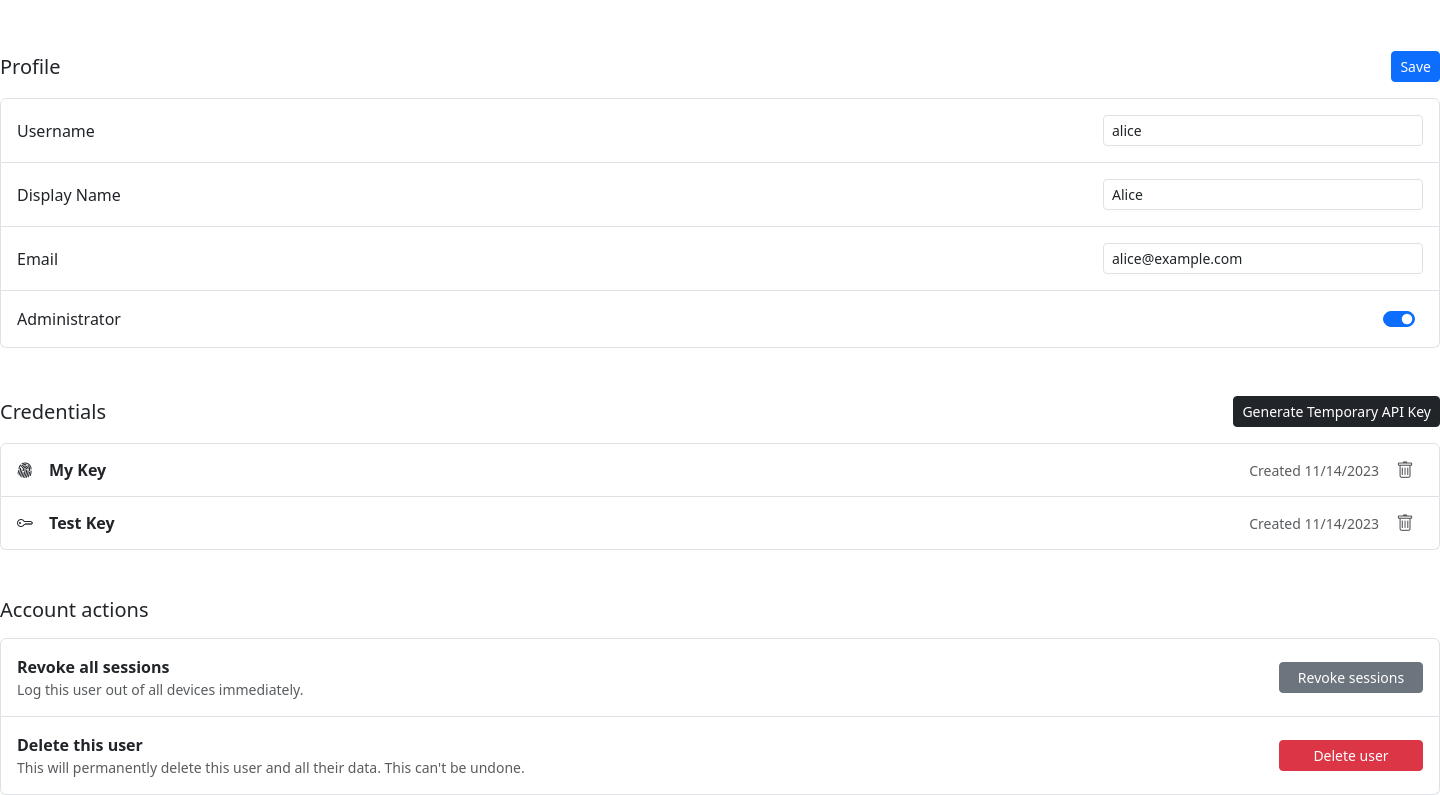
Scenario: AdminUserDetailPage › shows delete confirmation modal when Delete User is clicked
(page scrolled)
Click the button "Delete user": x=1351, y=756 top-left (1279, 740), bottom-right (1423, 771)
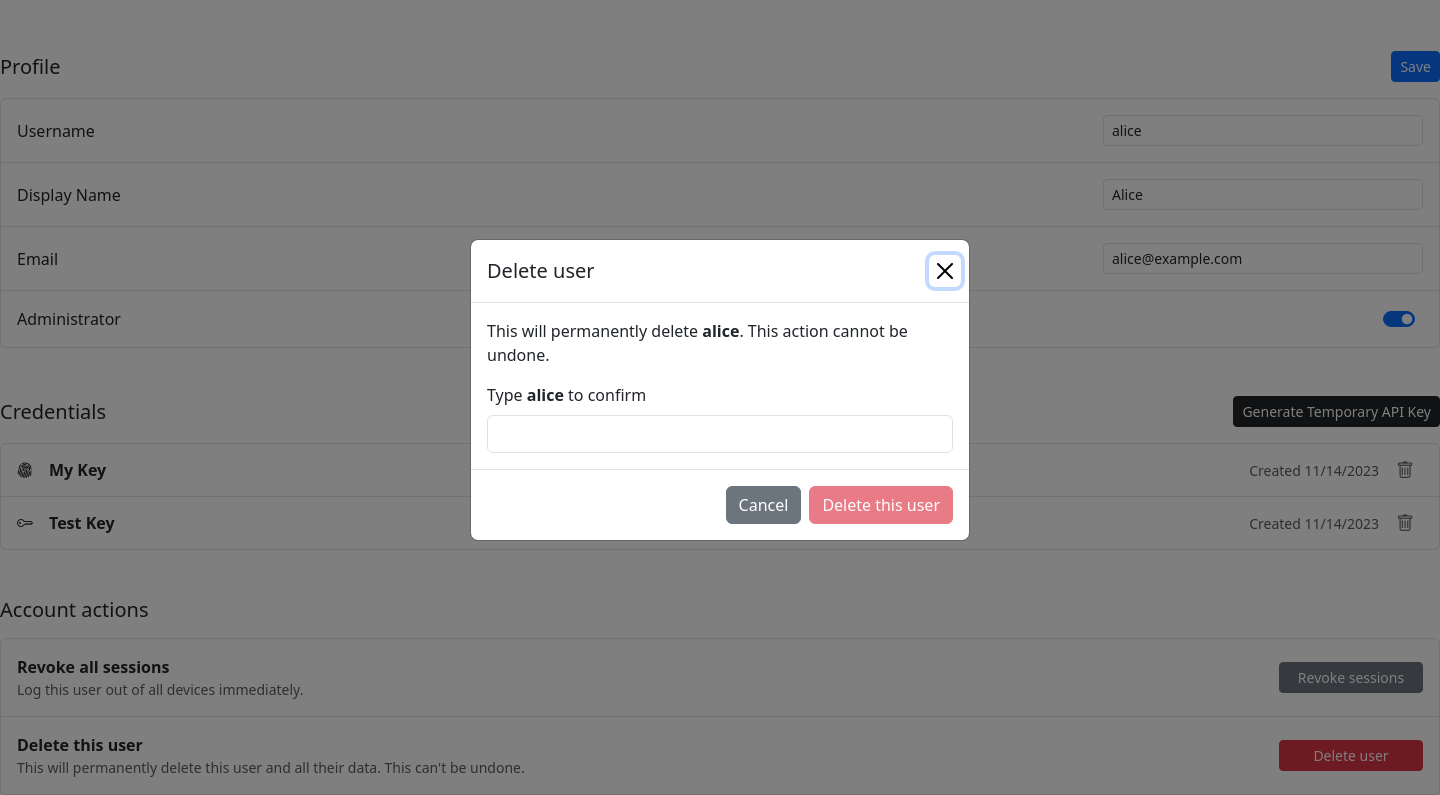
Result: the text "Type alice to confirm" is shown at top-left (487, 383), bottom-right (646, 407)
Result: the button "Delete this user" is disabled at top-left (809, 486), bottom-right (953, 524)
